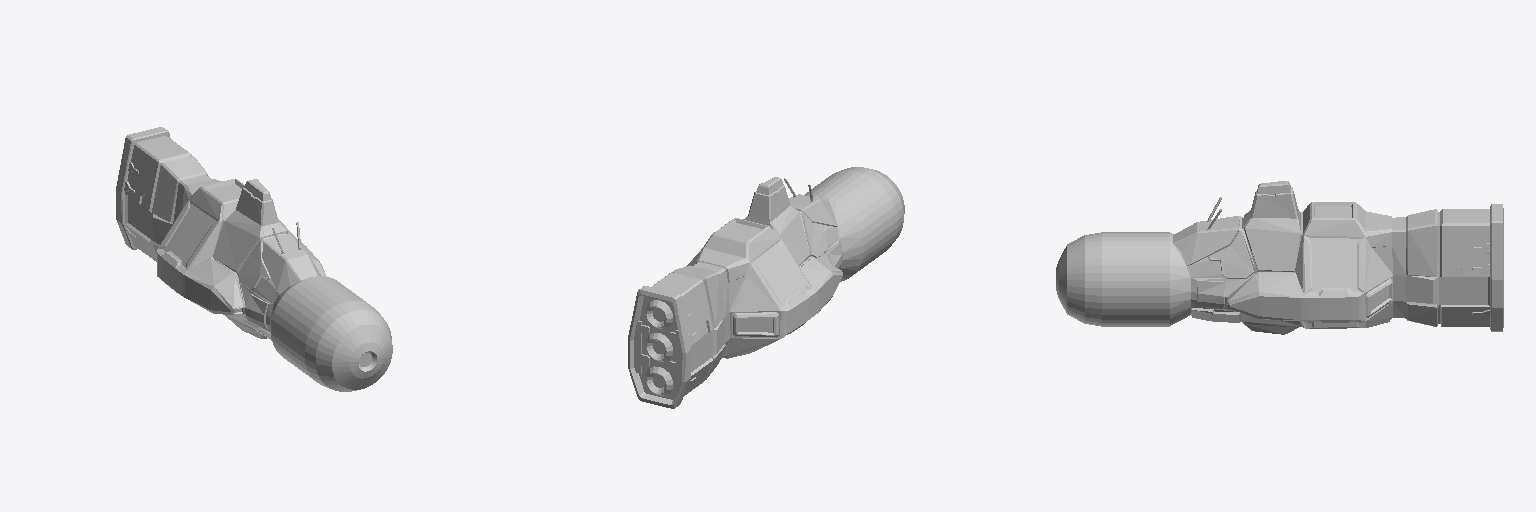
The model's file is bst_fieldfrigate1.obj.
3 views of the same model, side by side, from view 1: azimuth 30°, elevation 25°; view 2: azimuth 150°, elevation 25°; view 3: azimuth 270°, elevation 25° (orthographic).
Visible parts, largest first — view 1: Tai_DFGFrigate, Tai_DFGFrigateBadge; view 2: Tai_DFGFrigate, Tai_DFGFrigate_Engine, Tai_DFGFrigateBadge; view 3: Tai_DFGFrigate, Tai_DFGFrigateBadge.
Boxes of the visible parts, <box> form: Tai_DFGFrigate: <box>116,127,392,391</box>; Tai_DFGFrigateBadge: <box>284,322,307,370</box>; Tai_DFGFrigate: <box>639,167,904,406</box>; Tai_DFGFrigate_Engine: <box>628,290,685,408</box>; Tai_DFGFrigateBadge: <box>875,206,897,253</box>; Tai_DFGFrigate: <box>1056,181,1502,334</box>; Tai_DFGFrigateBadge: <box>1102,281,1141,314</box>.
Size of the model in its own units: 38.02 by 44.2 by 121.